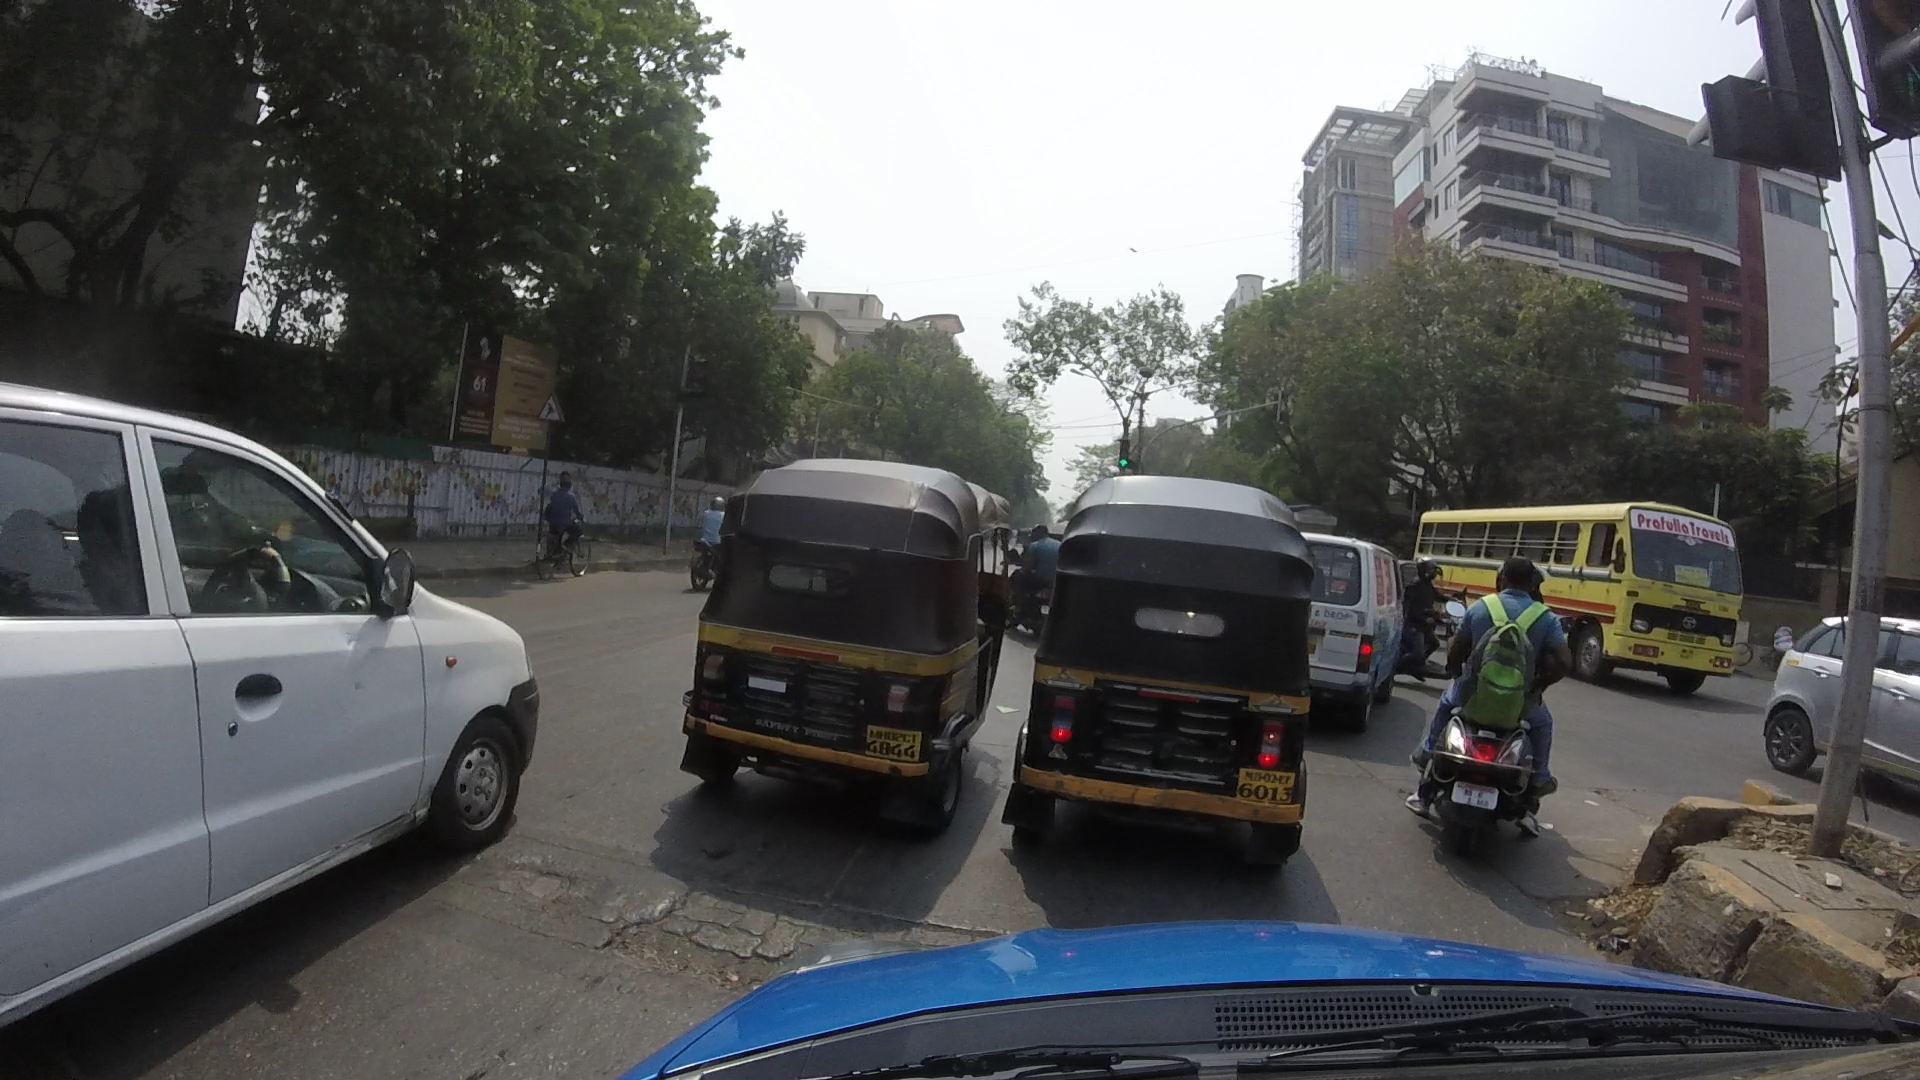bike/scooter: (1419, 560, 1555, 824)
bus: (1440, 510, 1758, 673)
car: (13, 392, 513, 1042), (1763, 616, 1916, 793), (1299, 522, 1399, 688)
rickshaw: (687, 458, 1013, 822), (1031, 473, 1316, 851)
